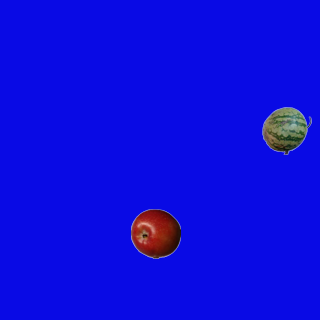Apple Braeburn: (130, 208, 180, 258)
Watermelon: (261, 105, 311, 155)
